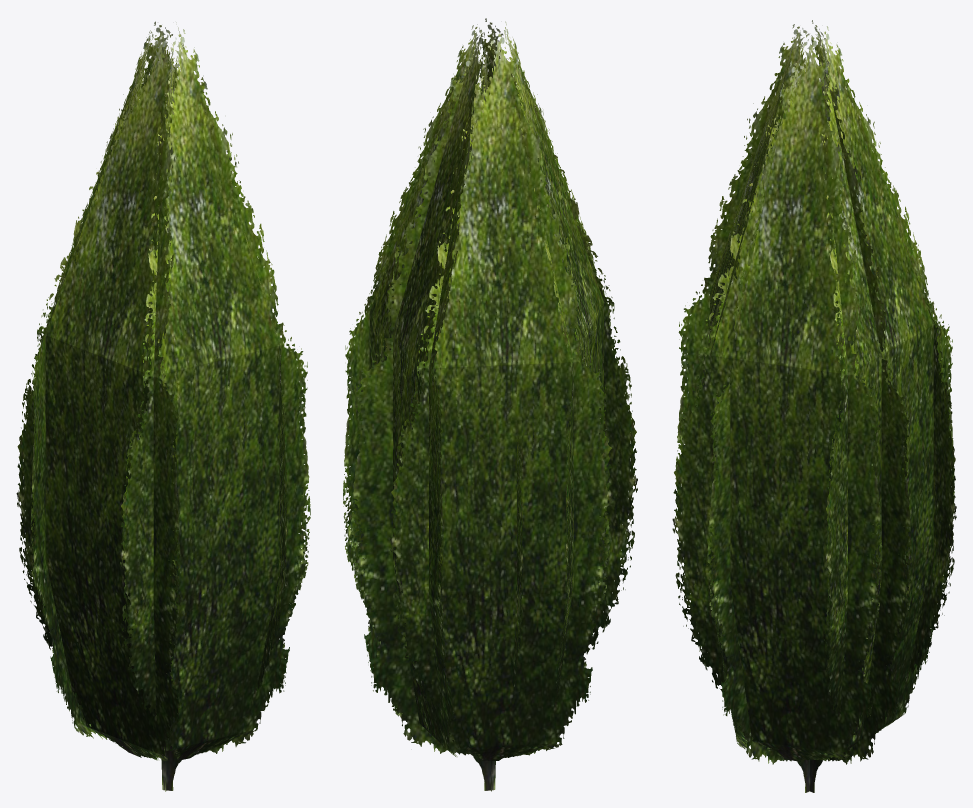
The model's file is tree.dae.
The picture shows the model from 3 angles, left to right: view 1: azimuth 30°, elevation 25°; view 2: azimuth 150°, elevation 25°; view 3: azimuth 270°, elevation 25°; orthographic projection.
Parts seen in each view (by area): view 1: group_1, group_6, group_5, group_3, group_0, group_4; view 2: group_5, group_4, group_2, group_6, group_1, group_3, group_0; view 3: group_3, group_4, group_2, group_0, group_5, group_6, group_1.
Part boxes in pixels (x1,y1,x2,y2): group_1: (120, 29, 310, 760); group_6: (16, 34, 180, 760); group_5: (31, 30, 153, 739); group_3: (176, 22, 287, 695); group_0: (161, 53, 306, 790); group_4: (119, 21, 180, 122); group_5: (390, 30, 609, 760); group_4: (365, 24, 484, 756); group_2: (350, 51, 613, 790); group_6: (505, 21, 610, 708); group_1: (477, 18, 637, 654); group_3: (343, 25, 483, 721); group_0: (479, 41, 523, 791); group_3: (672, 30, 882, 761); group_4: (820, 26, 954, 753); group_2: (810, 61, 912, 792); group_0: (707, 61, 809, 792); group_5: (811, 20, 956, 680); group_6: (675, 24, 809, 651); group_1: (710, 33, 797, 749).
Size of the model in its own units: 98.93 by 95.1 by 278.
